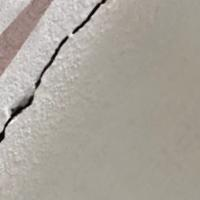crack: (0, 0, 112, 155)
